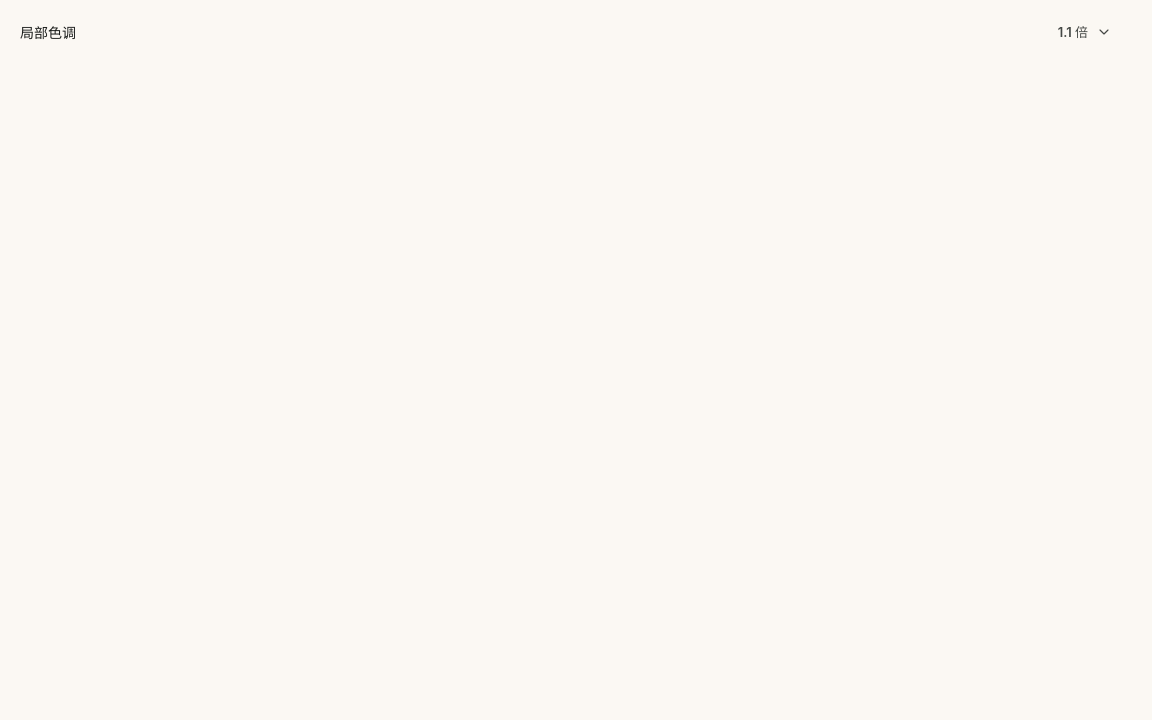
Scenario: numeric slider › snaps to decimal steps without binary residue and displays the formatted value
Click the button "局部色调 1.1 倍".
click(48, 32)  # box [0,0,1151,64]
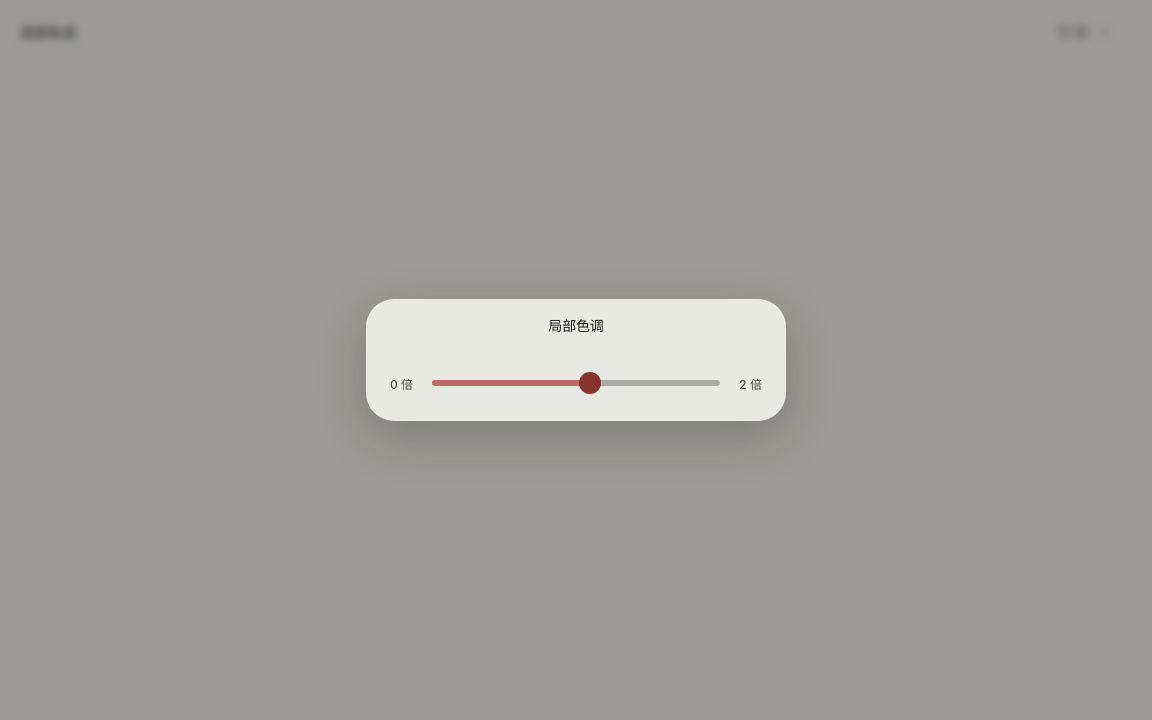
Set the slider named "局部色调" to "1.23" at {"x": 610, "y": 383}, box [421,361,731,405]
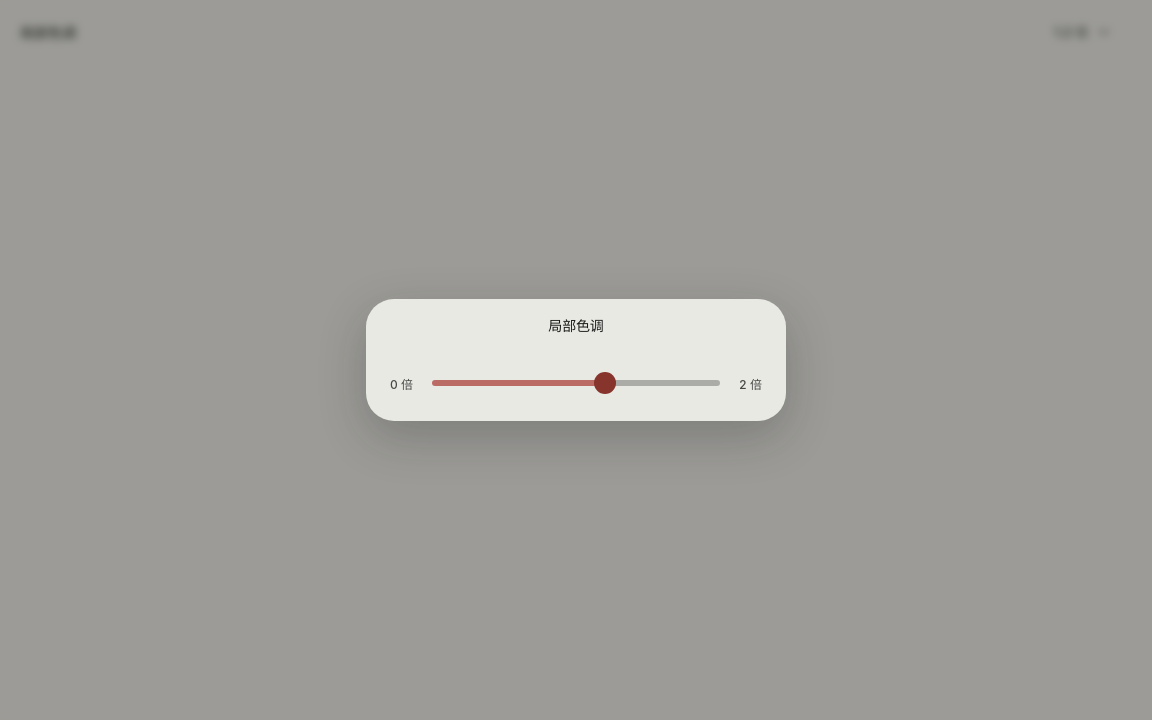
Expected: the slider named "局部色调" holds "1.2"
Set the slider named "局部色调" to "1.31" at {"x": 622, "y": 383}, box [421,361,731,405]
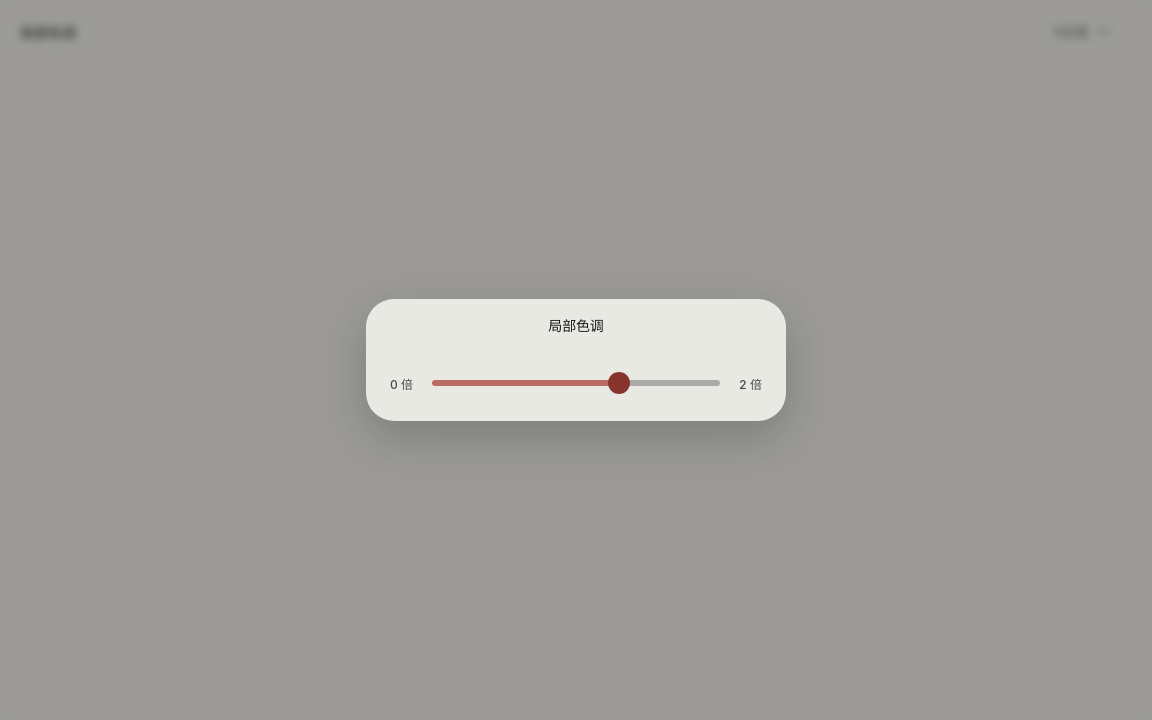
Expected: the slider named "局部色调" holds "1.3", [421,361,731,405]
